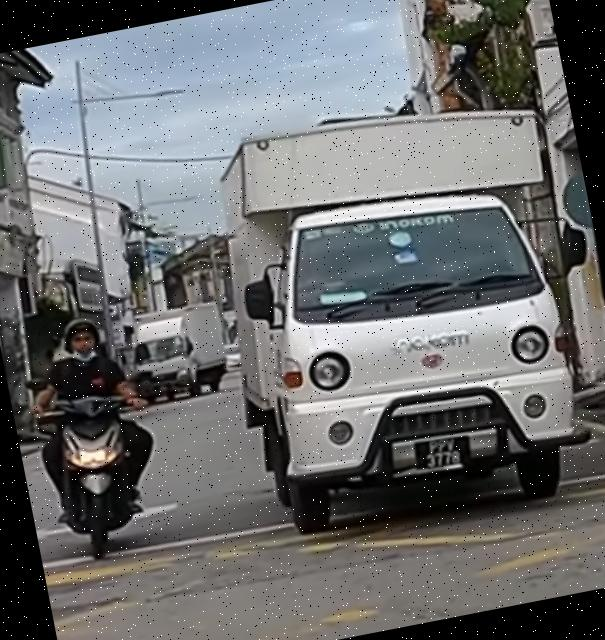License_Plate: (410, 429, 473, 477)
car: (189, 72, 605, 552)
